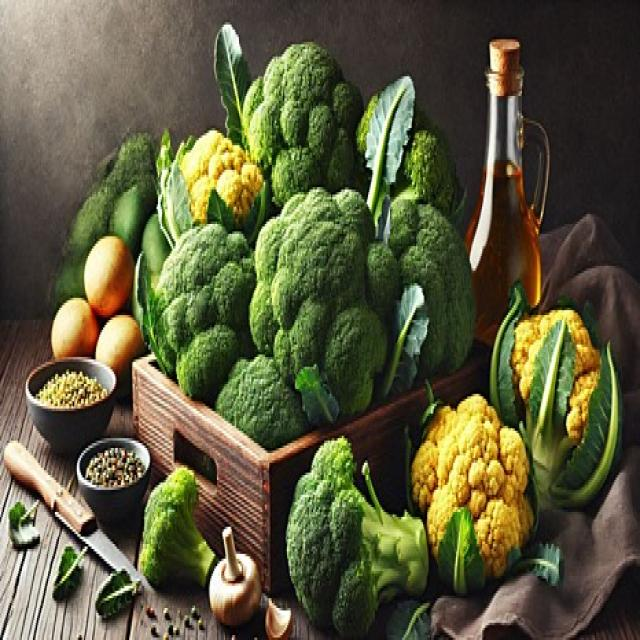broccoli: (153, 62, 475, 447)
